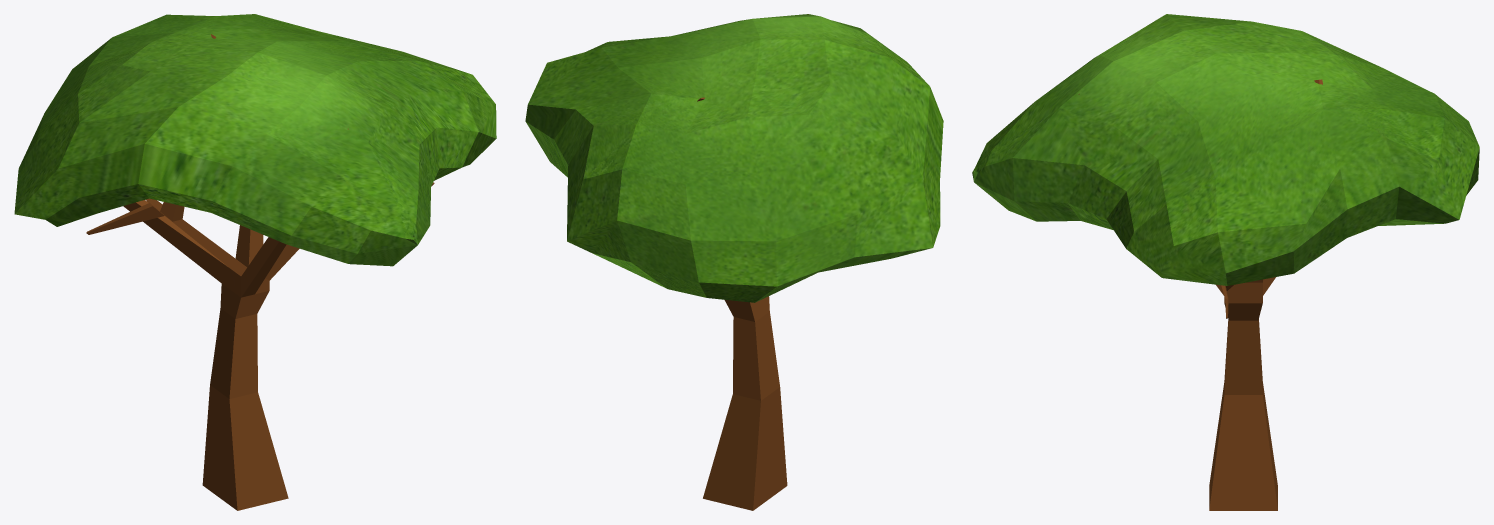
Rendered from tree-9.fbx.
3 views of the same model, side by side, from view 1: azimuth 30°, elevation 25°; view 2: azimuth 150°, elevation 25°; view 3: azimuth 270°, elevation 25° (orthographic).
Parts seen in each view (by area): view 1: leaf_tree_9:Group1, tree_9:Group2; view 2: leaf_tree_9:Group1, tree_9:Group2; view 3: leaf_tree_9:Group1, tree_9:Group2.
Boxes of the visible parts, left/top/right/bottom form: leaf_tree_9:Group1: left=14, top=14, right=496, bottom=266; tree_9:Group2: left=86, top=34, right=434, bottom=510; leaf_tree_9:Group1: left=525, top=14, right=943, bottom=302; tree_9:Group2: left=697, top=14, right=808, bottom=510; leaf_tree_9:Group1: left=972, top=14, right=1479, bottom=285; tree_9:Group2: left=1078, top=79, right=1322, bottom=510.
Bounding box in the file's own units: 14.27 × 14.18 × 14.69.
